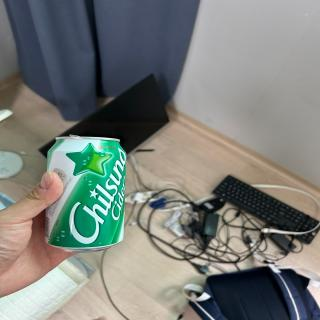cocacola: (41, 134, 127, 255)
